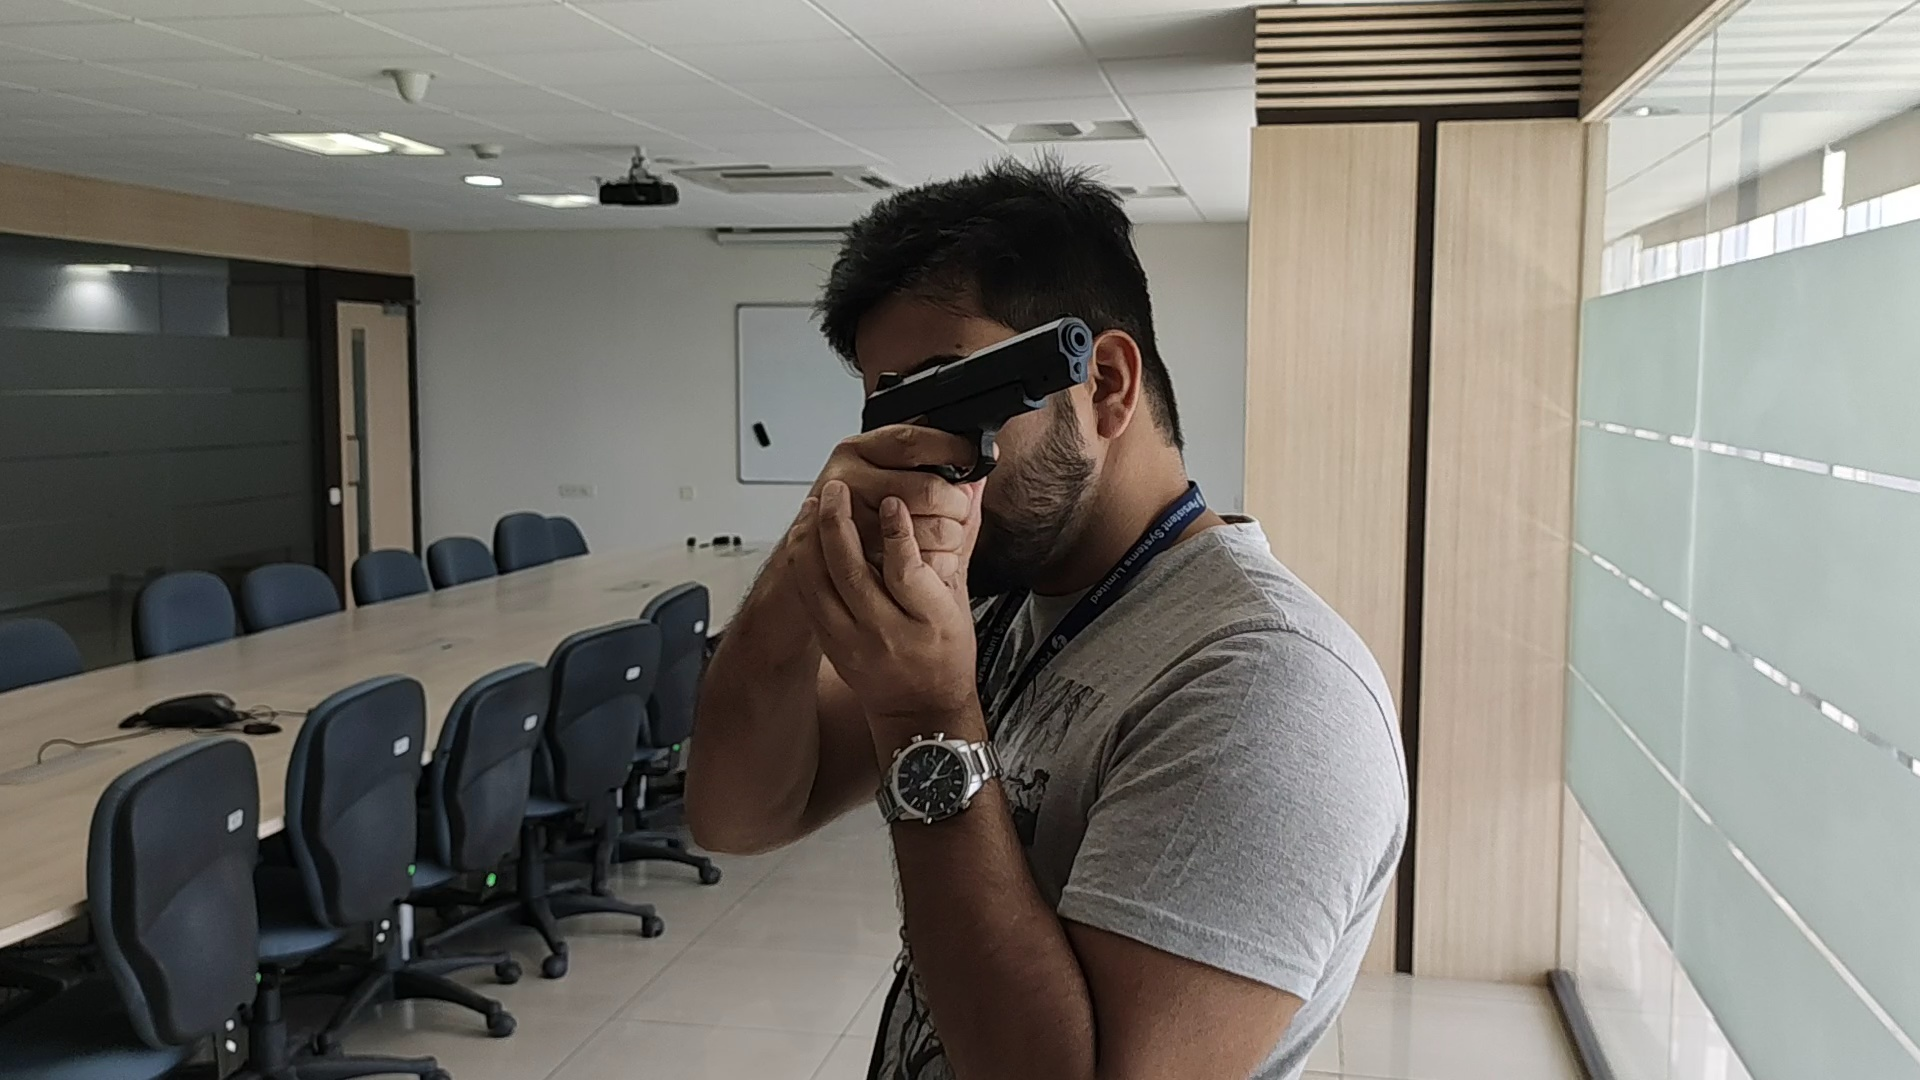gun: (865, 320, 1091, 426)
